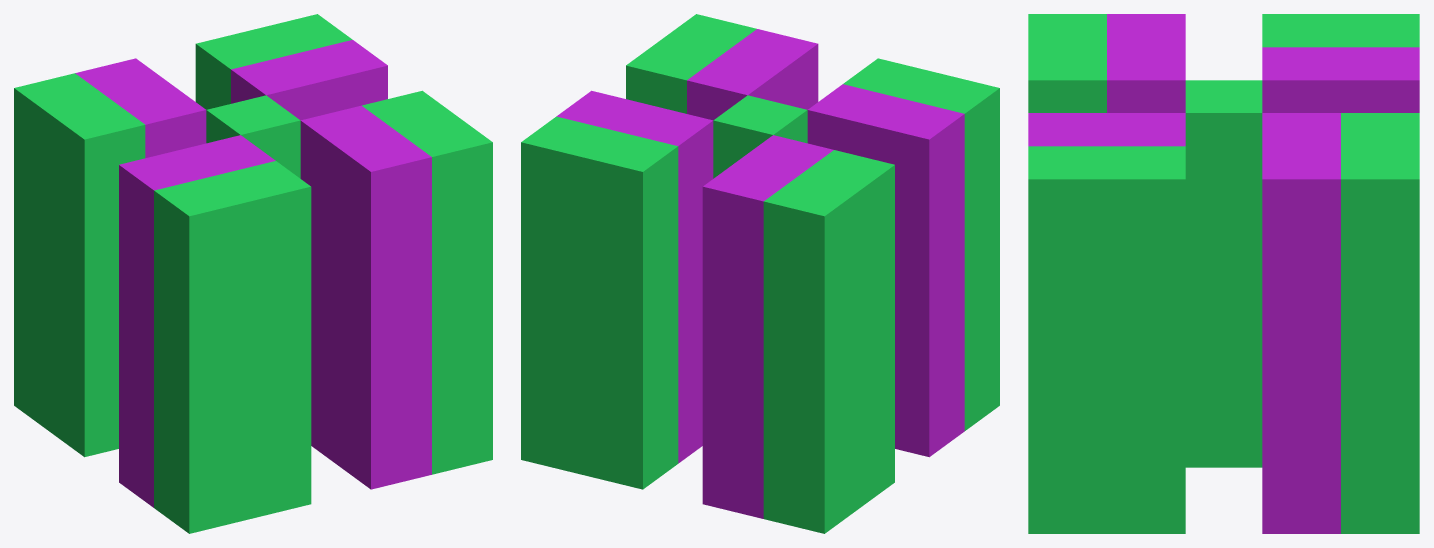
3 views of the same model, side by side, from view 1: azimuth 30°, elevation 25°; view 2: azimuth 150°, elevation 25°; view 3: azimuth 270°, elevation 25° (orthographic). The views are drawn at different scales.
Visible parts, largest first — view 1: Cube; view 2: Cube; view 3: Cube.
Boxes of the visible parts, x1=… form: Cube: x1=14, y1=14, x2=492, y2=533; Cube: x1=521, y1=14, x2=999, y2=533; Cube: x1=1028, y1=14, x2=1419, y2=533.
Size of the model in its own units: 200 by 200 by 200.
